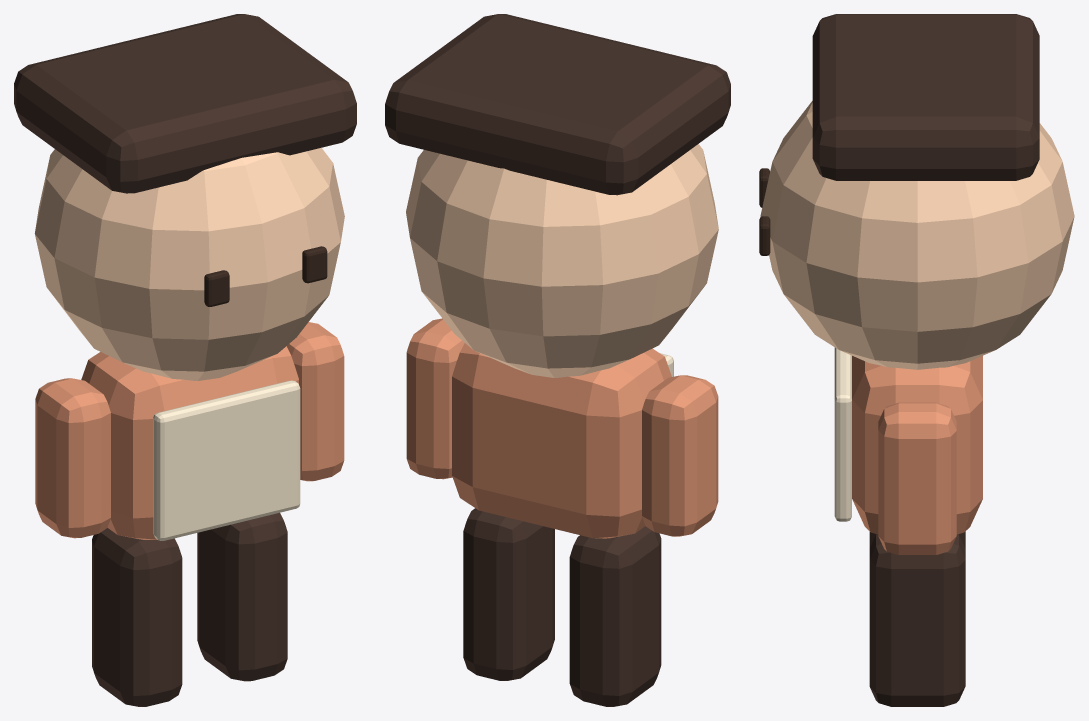
File: kar_mbakSri.fbx
3 views of the same model, side by side, from view 1: azimuth 30°, elevation 25°; view 2: azimuth 150°, elevation 25°; view 3: azimuth 270°, elevation 25° (orthographic).
Visible parts, largest first — view 1: kar_mbakSri; view 2: kar_mbakSri; view 3: kar_mbakSri.
Boxes of the visible parts, x1,y1,x2,y2 form: kar_mbakSri: (14,14,356,706); kar_mbakSri: (385,14,730,706); kar_mbakSri: (759,14,1074,706).
Bounding box in the file's own units: 76 × 154 × 72.25.
1 material, 1 textured.
